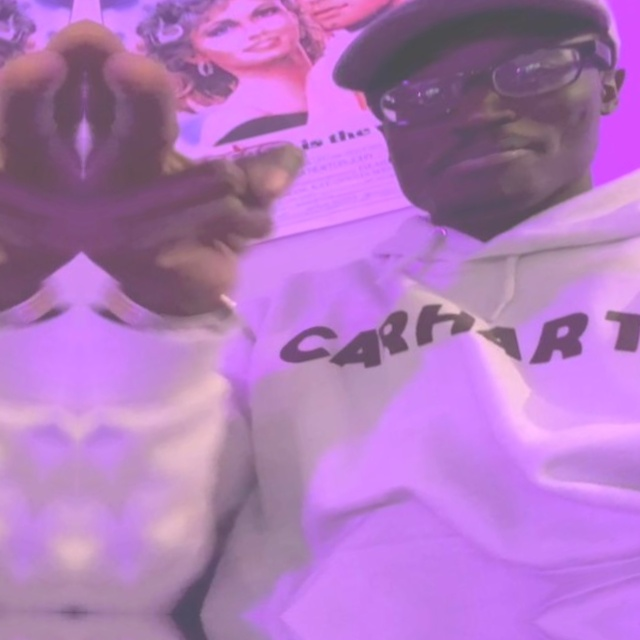Scissors: (0, 0, 87, 361)
